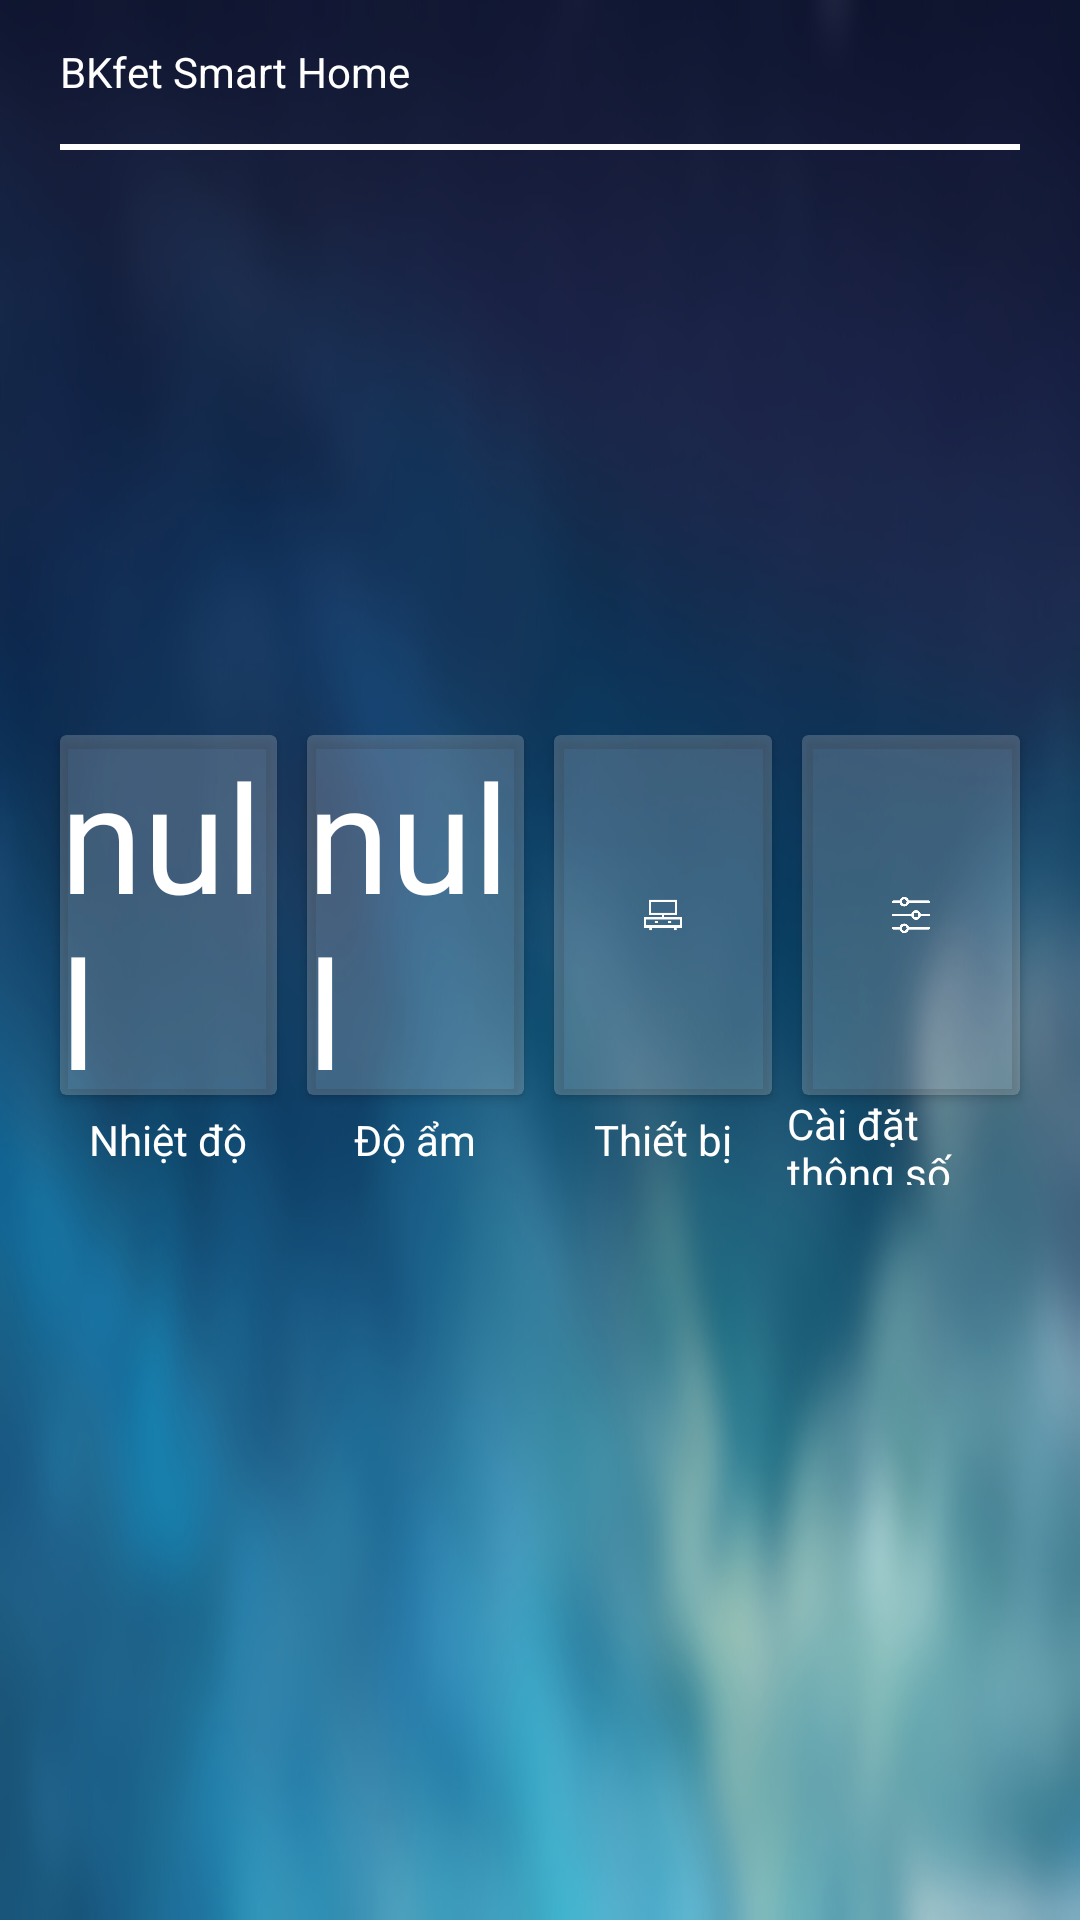

Named icons in this screenshot (1080 x 1920) and their bounding boxes, (x1, y1, x2, y2):
device: (644, 900, 682, 930)
setupparam: (892, 897, 930, 933)
